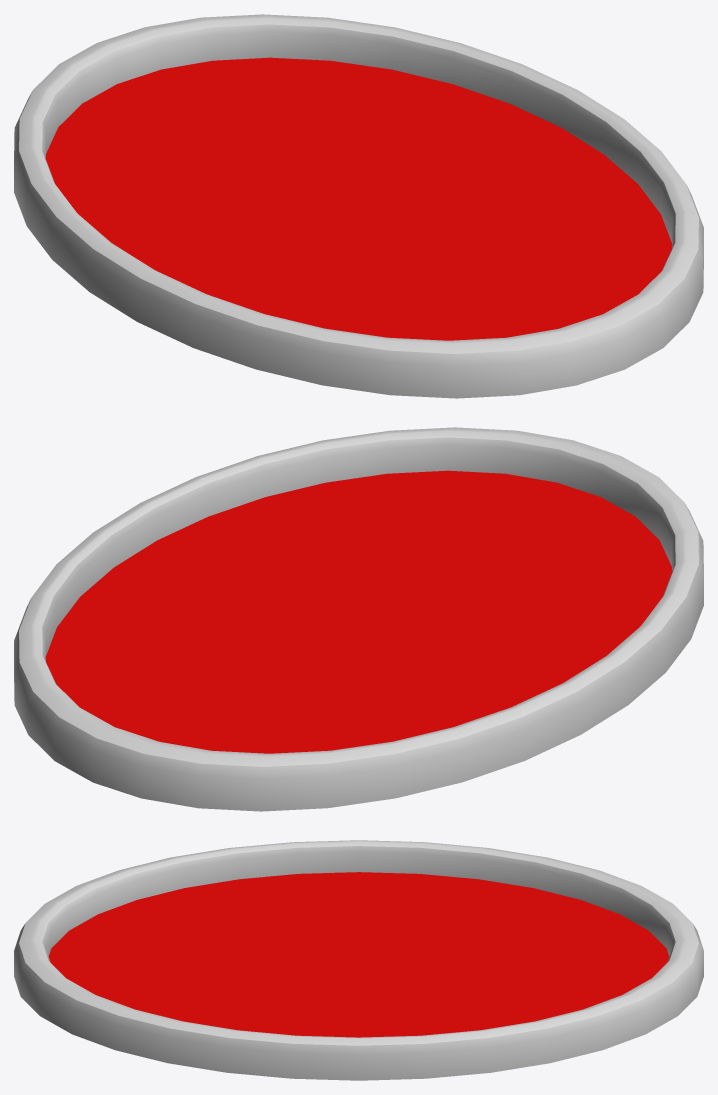
File: RahmenOval 1.fbx
3 views of the same model, one above another, from view 1: azimuth 30°, elevation 25°; view 2: azimuth 150°, elevation 25°; view 3: azimuth 270°, elevation 25° (orthographic). The views are drawn at different scales.
Visible parts, largest first — view 1: Cylinder; view 2: Cylinder; view 3: Cylinder.
Boxes of the visible parts, x1,y1,x2,y2 form: Cylinder: [14, 14, 703, 398]; Cylinder: [14, 427, 703, 811]; Cylinder: [14, 840, 703, 1080].
Bounding box in the file's own units: 208 × 16.99 × 290.
